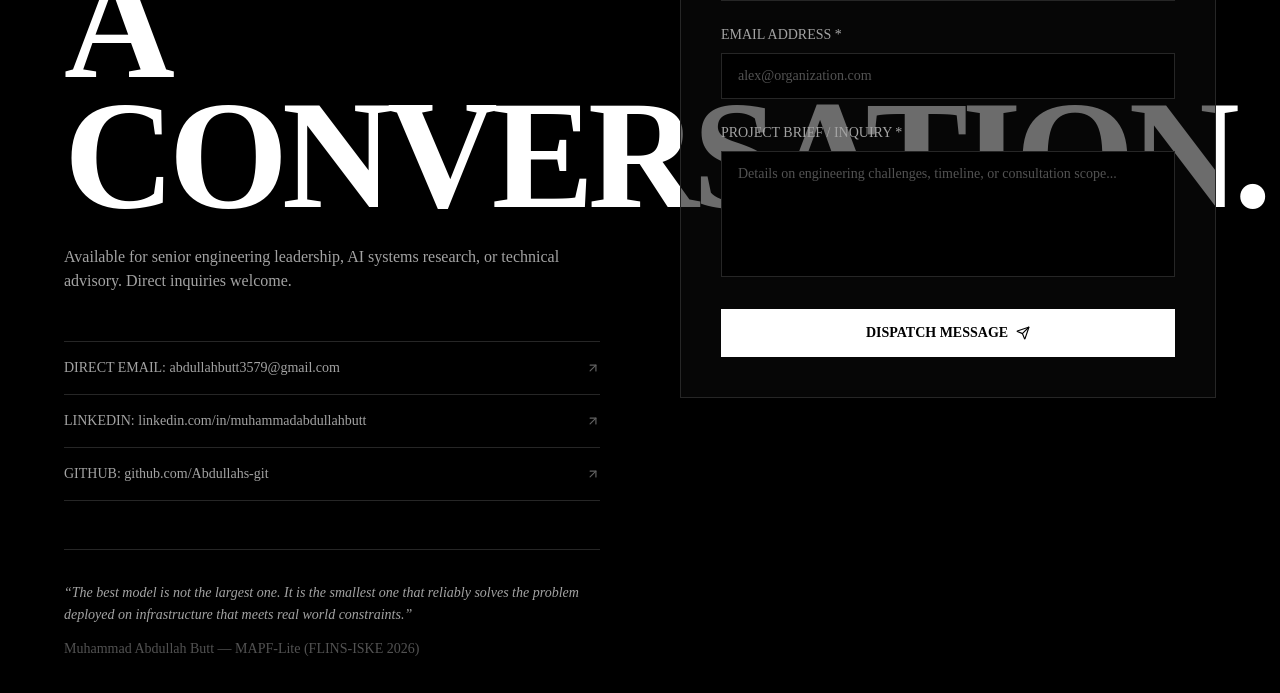
it: ContactSection — validation › shows validation errors when submitted with empty fields
(page scrolled)
Click the button "DISPATCH MESSAGE" at [948, 333], box [721, 309, 1175, 357]
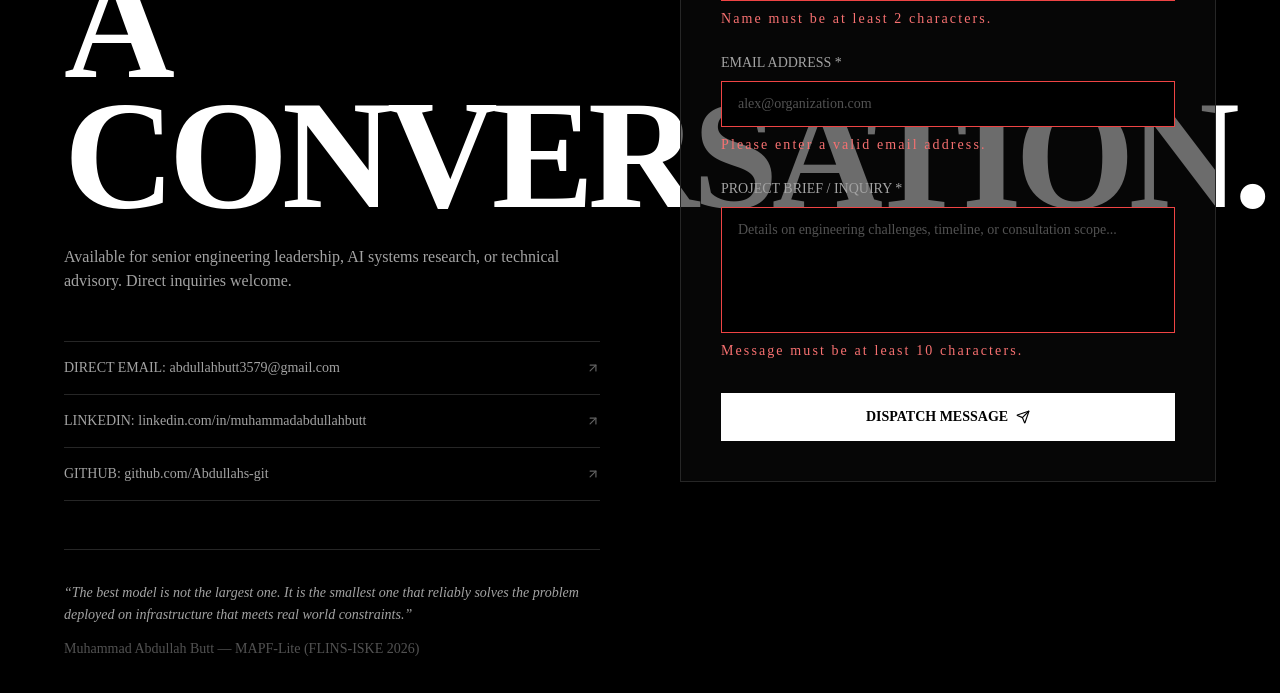
Now the text "Name must be at least 2 characters." is shown, box [721, 11, 992, 26]
